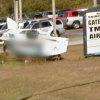Boat: (4, 13, 70, 70)
